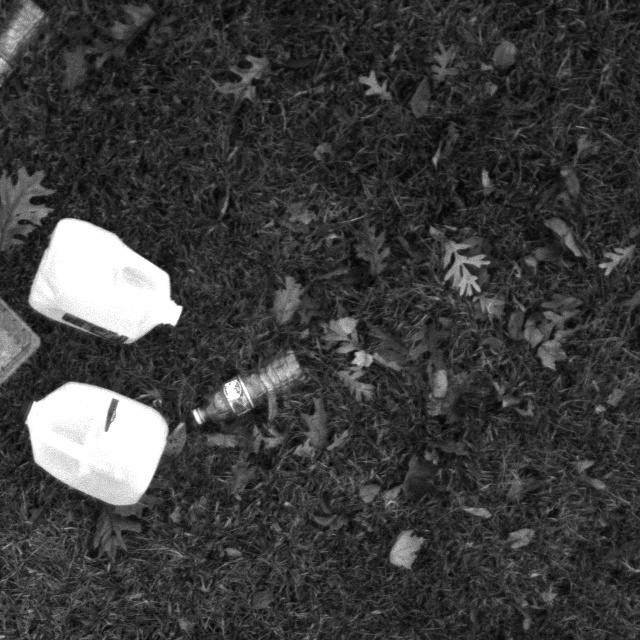bottle: (182, 344, 305, 449), (0, 0, 60, 121)
can: (18, 210, 193, 358), (18, 374, 175, 518)
